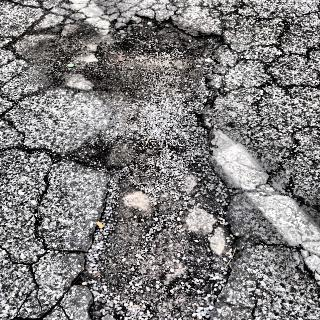alligator-crack: (3, 36, 88, 320), (251, 0, 320, 313), (0, 0, 278, 26)
pothole: (92, 32, 256, 320)
